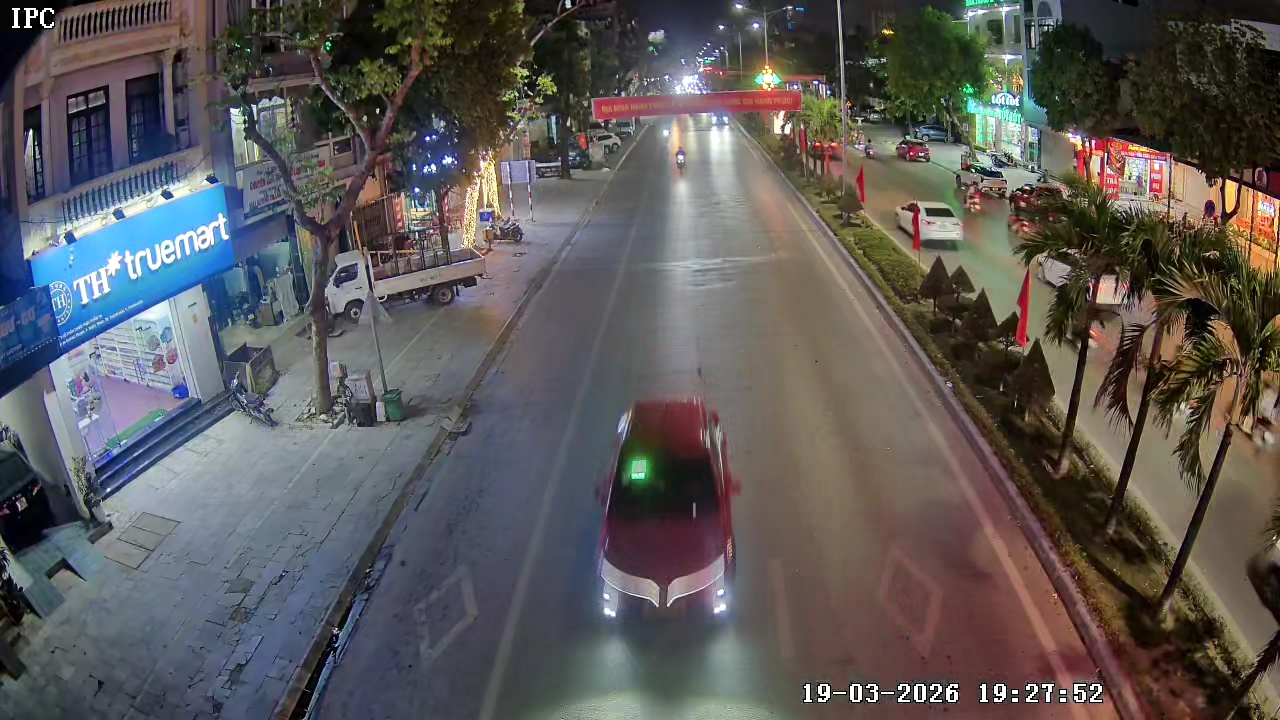car: (590, 396, 743, 694), (896, 197, 965, 246)
motorbike: (672, 140, 689, 173)
